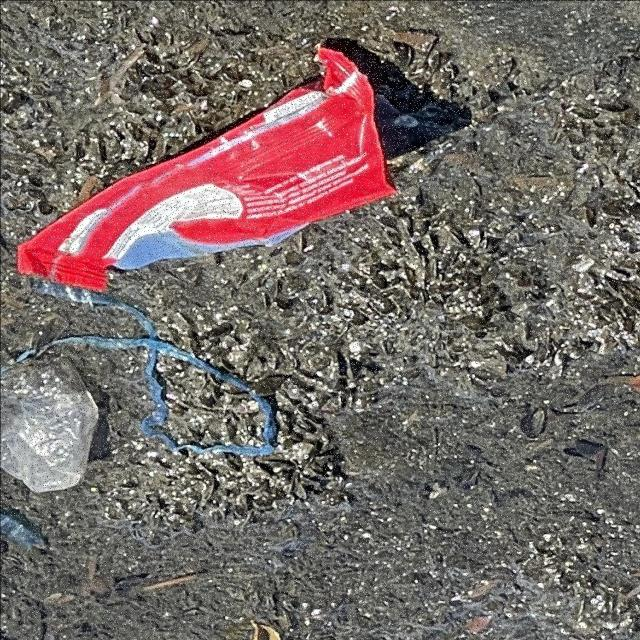plastic_waste: (19, 46, 397, 294)
